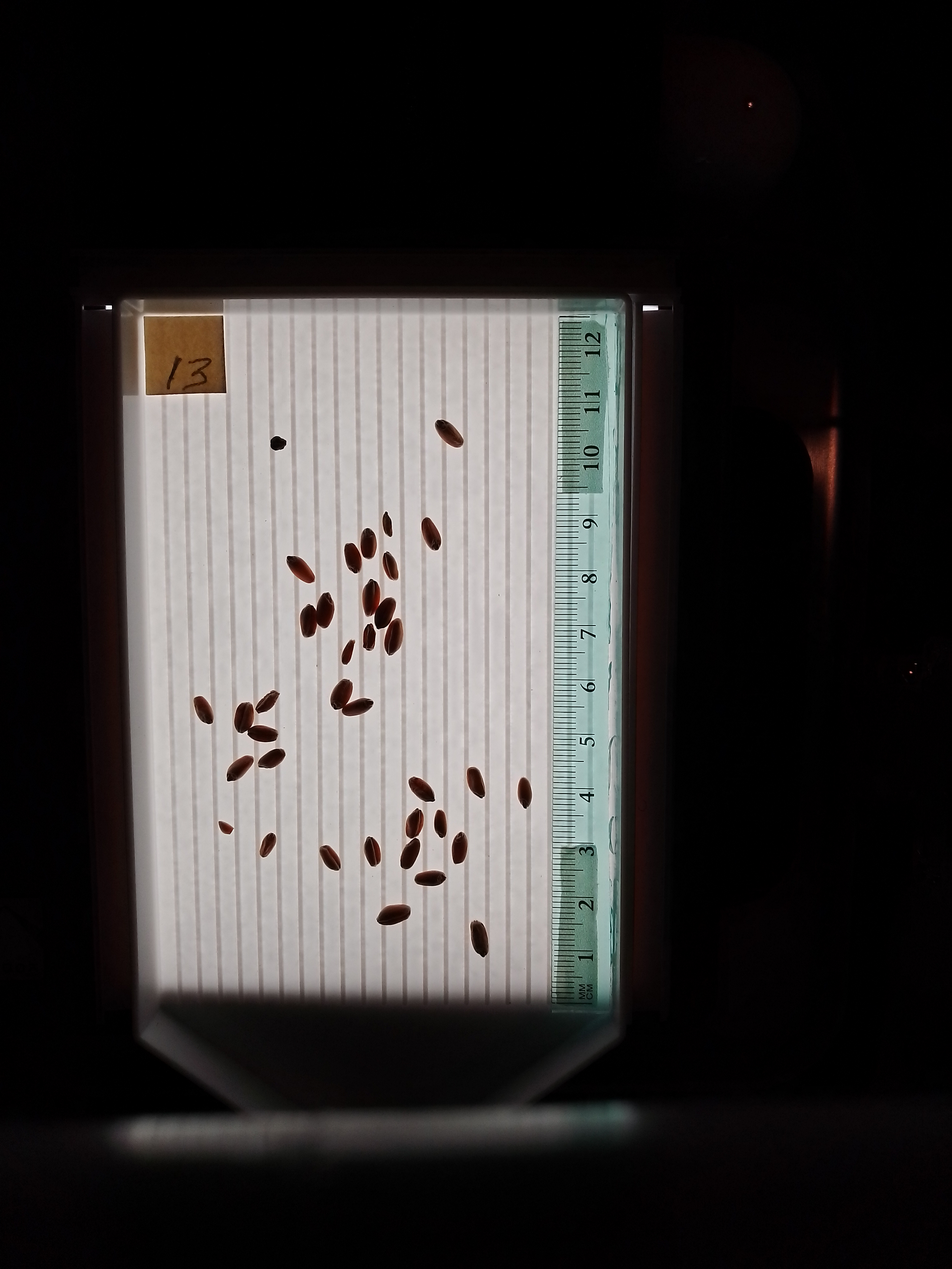seed mask: (436, 419, 463, 447), (288, 556, 314, 584), (378, 904, 410, 926), (227, 755, 253, 782), (470, 921, 489, 957), (421, 517, 441, 551), (331, 680, 353, 710), (374, 598, 395, 629), (410, 776, 435, 802), (385, 619, 403, 654), (466, 767, 486, 798), (316, 594, 334, 628), (362, 581, 380, 615), (234, 703, 254, 733), (401, 840, 420, 870), (194, 696, 214, 724), (249, 724, 278, 743), (320, 845, 341, 871), (300, 605, 317, 637), (360, 528, 377, 559), (343, 699, 372, 717), (256, 691, 279, 713), (405, 810, 423, 838), (260, 749, 285, 769), (452, 833, 468, 864), (344, 544, 361, 573), (364, 837, 381, 866), (416, 871, 445, 887), (518, 778, 533, 808), (383, 553, 399, 580), (260, 834, 276, 857), (363, 624, 376, 651), (434, 810, 447, 837), (342, 641, 354, 664), (382, 513, 393, 535)
